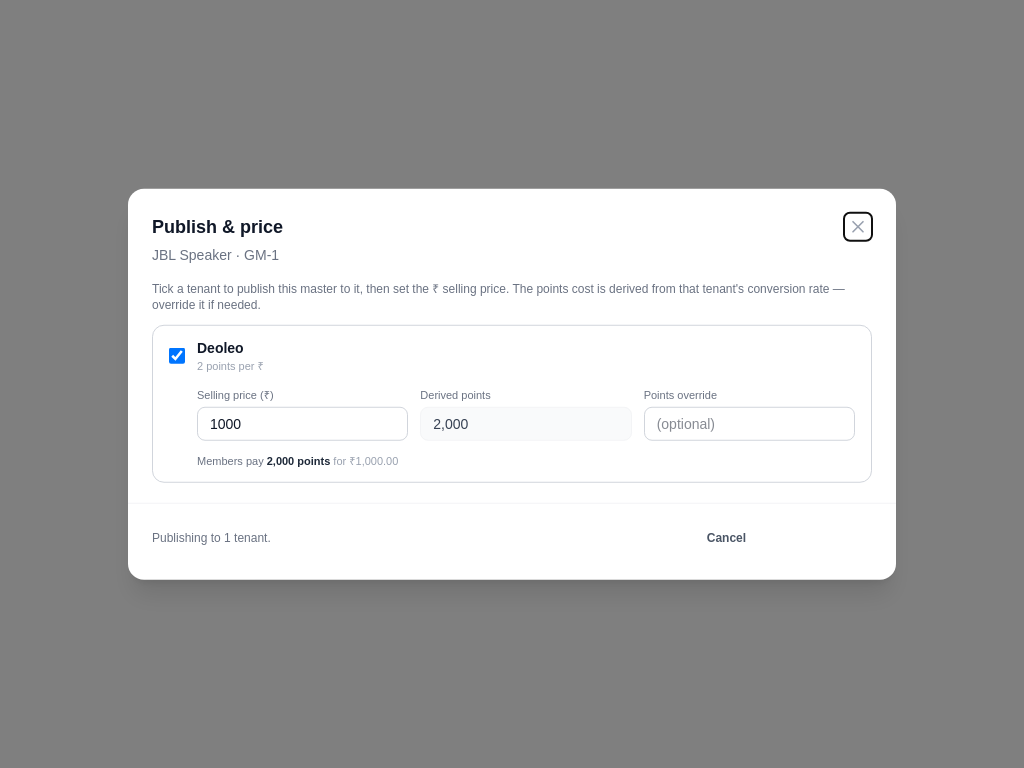
Test case: PublishDialog › blocks publish when a selected tenant has an invalid price
Clear the field with test id "publish-price-cl1" at coordinates (303, 424), box [197,407,408,441]
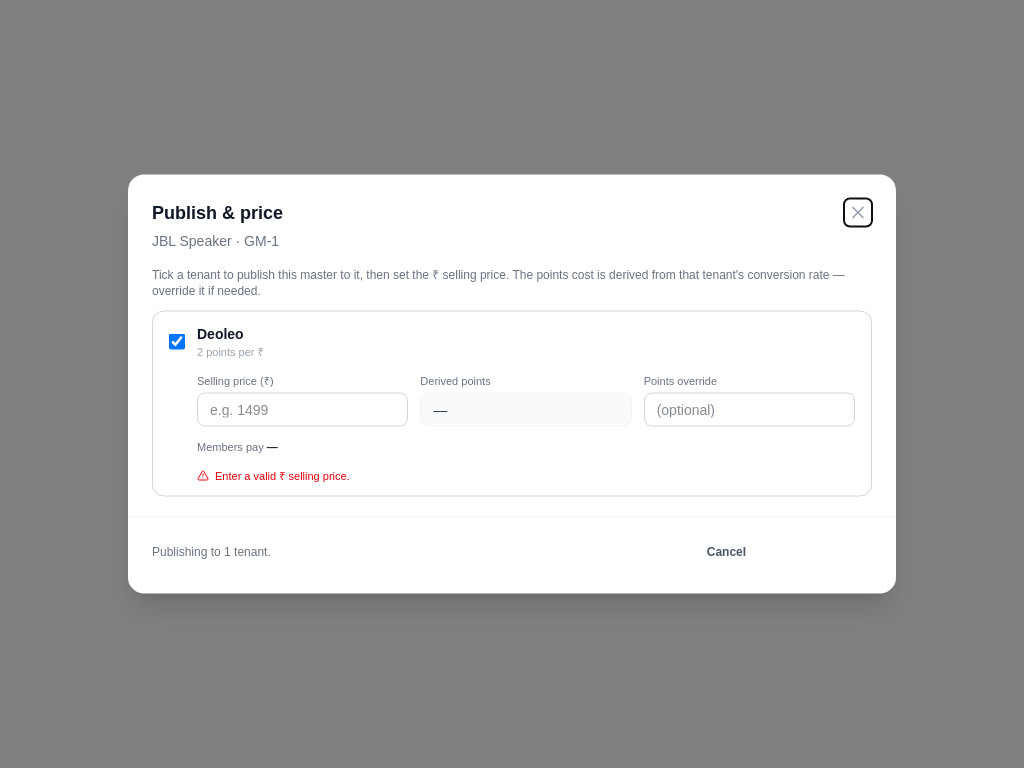
Check: the element with test id "publish-error-cl1" is shown, box [197,469,350,481]
